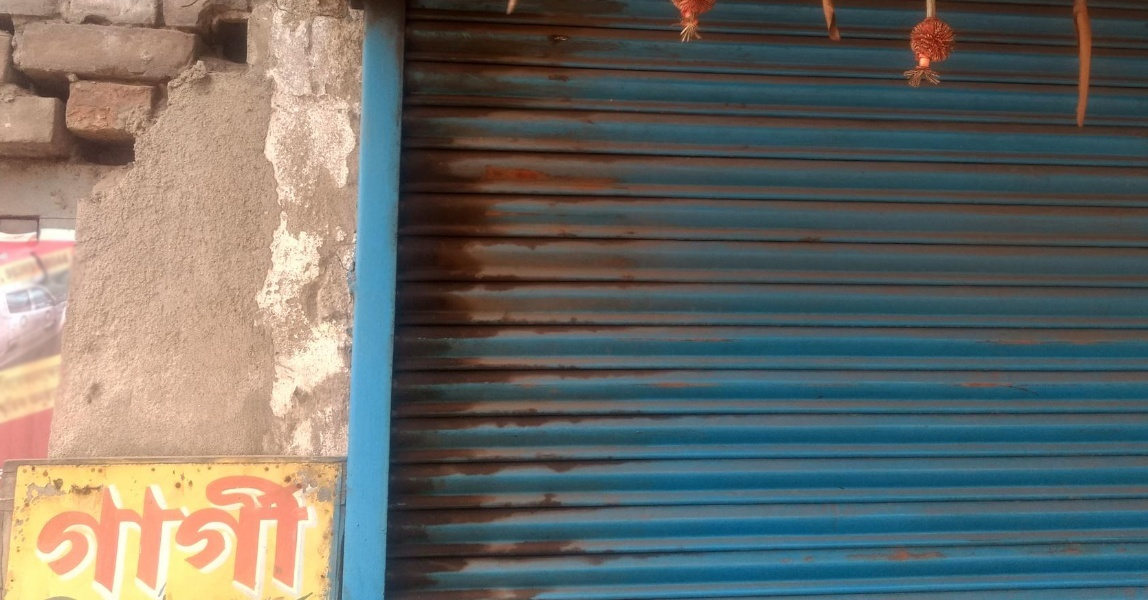text: (1, 240, 16, 457), (17, 240, 32, 457), (33, 240, 48, 457), (49, 240, 64, 457), (65, 240, 78, 457), (305, 472, 321, 600), (49, 472, 64, 600), (65, 472, 80, 600), (81, 472, 96, 600), (97, 472, 112, 600), (113, 472, 128, 600), (129, 472, 144, 600), (145, 472, 160, 600), (161, 472, 176, 600), (177, 472, 192, 600), (193, 472, 208, 600), (209, 472, 224, 600), (225, 472, 240, 600), (241, 472, 256, 600), (257, 472, 272, 600), (273, 472, 288, 600), (289, 472, 304, 600), (40, 472, 48, 600)
